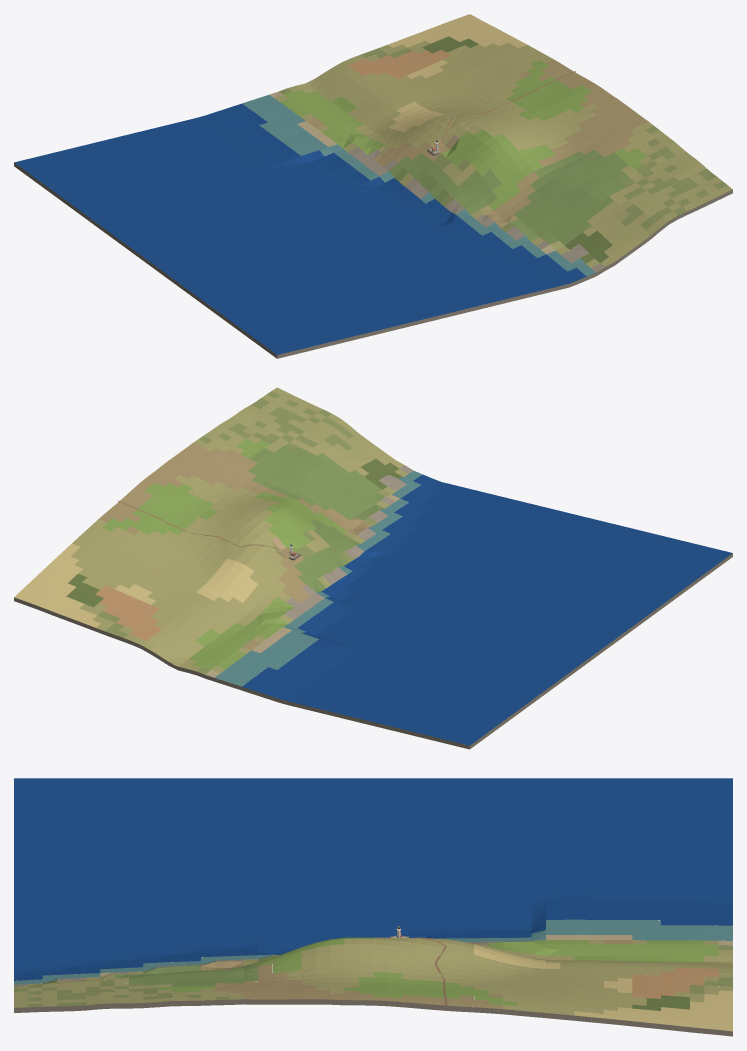
File: parca_-1_+1-uzak.glb
3 views of the same model, one above another, from view 1: azimuth 30°, elevation 25°; view 2: azimuth 150°, elevation 25°; view 3: azimuth 270°, elevation 25° (orthographic). The views are drawn at different scales.
Visible parts, largest first — view 1: parca_-1_+1_arazi_uzak; view 2: parca_-1_+1_arazi_uzak; view 3: parca_-1_+1_arazi_uzak.
Boxes of the visible parts, x1=… form: parca_-1_+1_arazi_uzak: x1=14, y1=14, x2=732, y2=358; parca_-1_+1_arazi_uzak: x1=14, y1=387, x2=732, y2=749; parca_-1_+1_arazi_uzak: x1=14, y1=778, x2=732, y2=1036.
Bounding box in the file's own units: 1002 × 135 × 1000.
